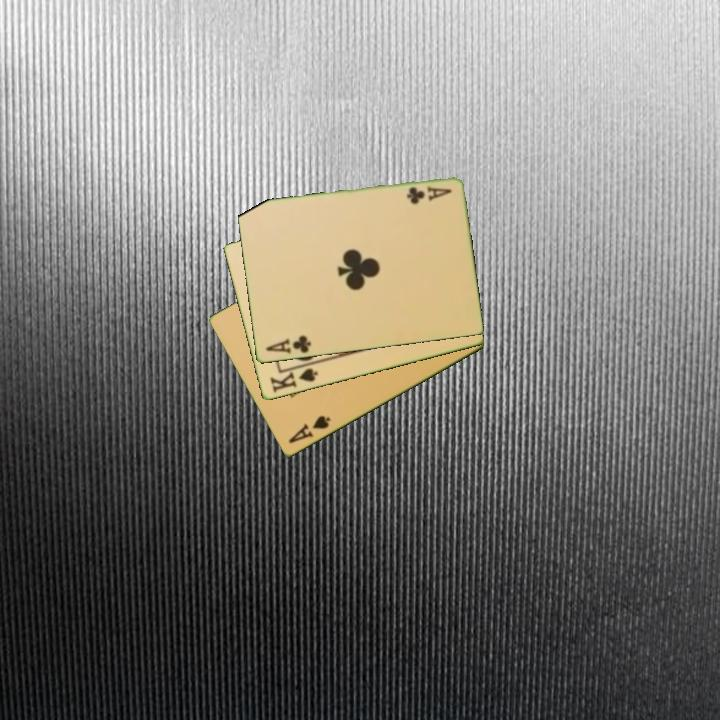Ac: (262, 332, 314, 357), (403, 183, 454, 207)
As: (285, 412, 333, 447)
Ks: (266, 365, 320, 396)
